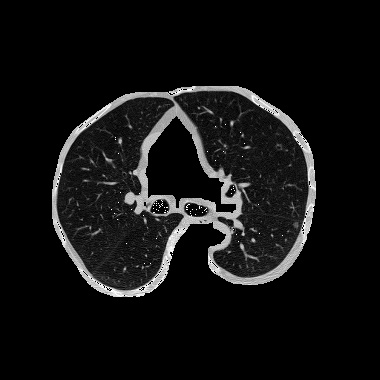PN: (292, 221, 300, 229)
